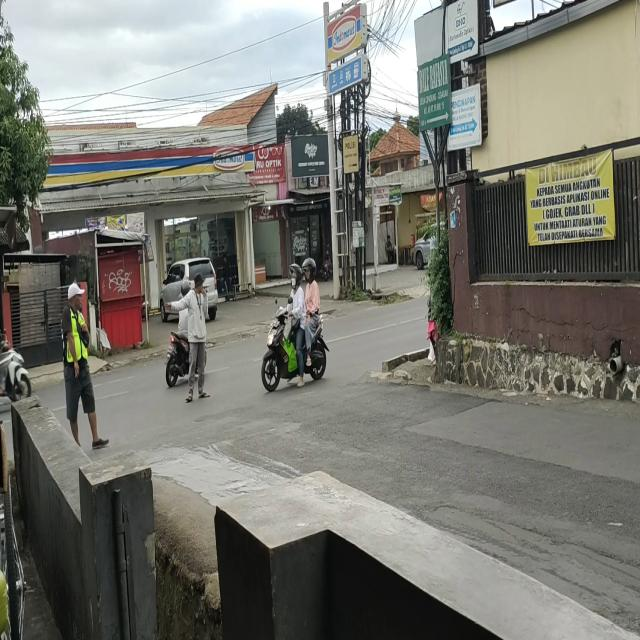helmet: (302, 260, 318, 282), (291, 270, 300, 292), (182, 284, 190, 298)
